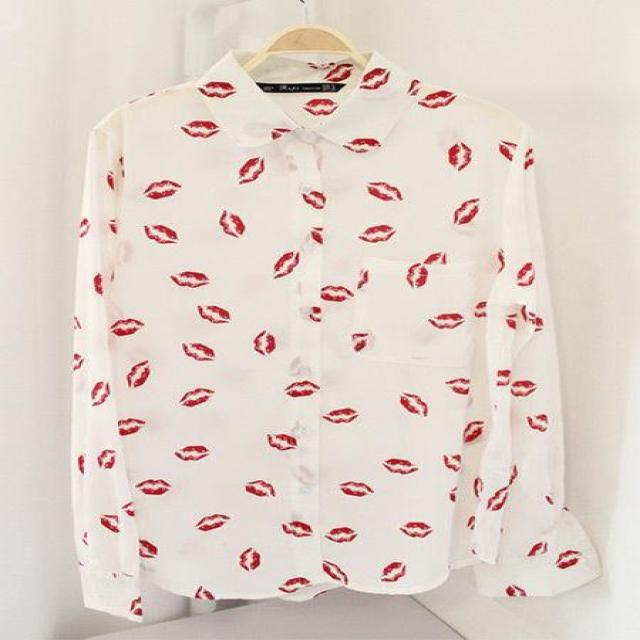long sleeve top: (73, 52, 600, 620)
